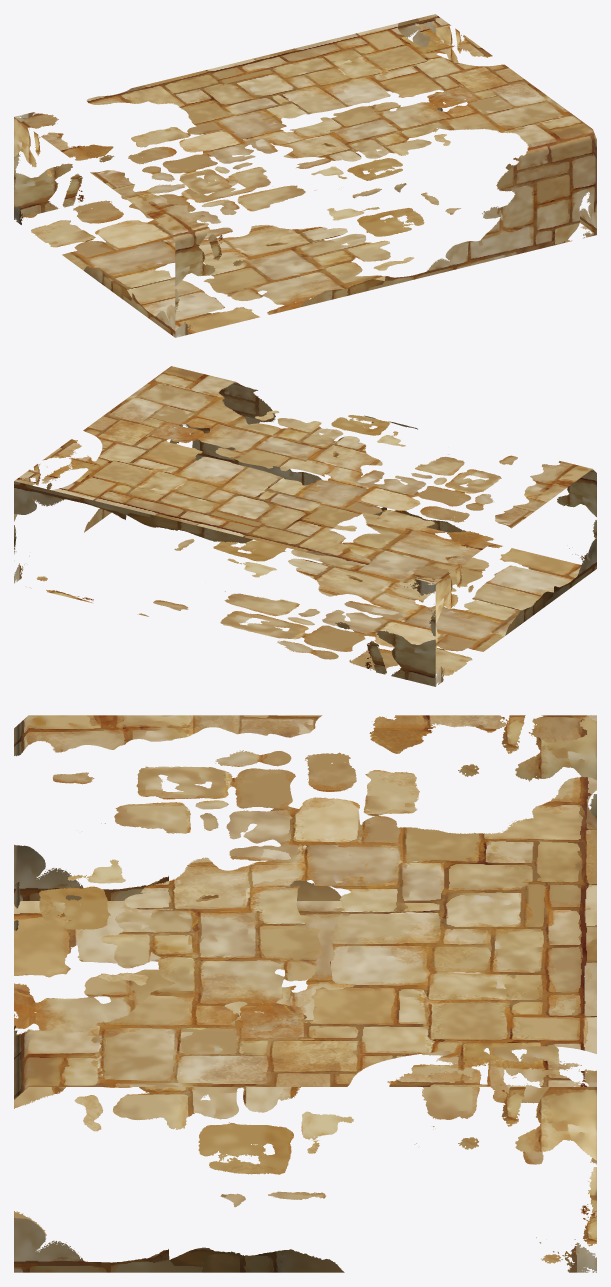
The model's file is Base_Ground.FBX.
3 renders of one model, top to bottom at view 1: azimuth 30°, elevation 25°; view 2: azimuth 150°, elevation 25°; view 3: azimuth 270°, elevation 25°, orthographic. The views are drawn at different scales.
Visible parts, largest first — view 1: Sol_plat; view 2: Sol_plat; view 3: Sol_plat.
Part boxes in pixels (left/top/right/bottom): Sol_plat: left=14, top=14, right=596, bottom=337; Sol_plat: left=14, top=366, right=596, bottom=686; Sol_plat: left=14, top=715, right=596, bottom=1272.
Bounding box in the file's own units: 608 × 142 × 403.
